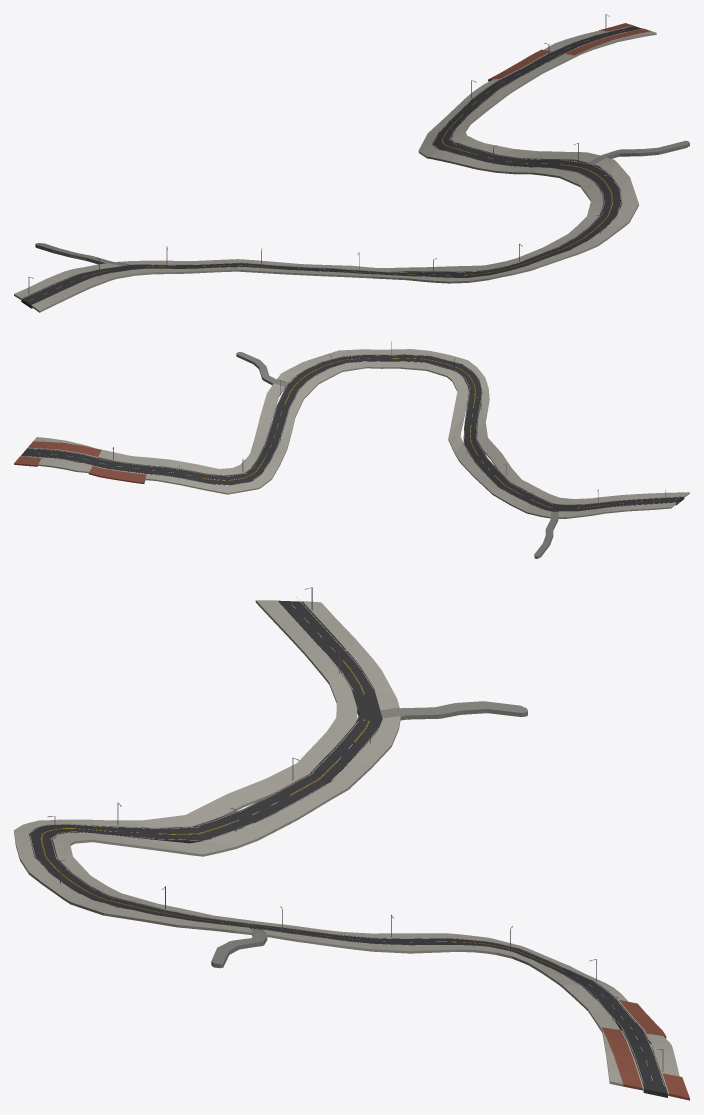
The picture shows the model from 3 angles, top to bottom: view 1: azimuth 30°, elevation 25°; view 2: azimuth 150°, elevation 25°; view 3: azimuth 270°, elevation 25°; orthographic projection. The views are drawn at different scales.
Bounding box in the file's own units: 296 × 26.61 × 178.
